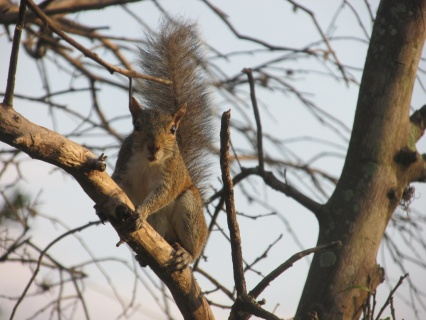Squirrel: (94, 7, 221, 272)
